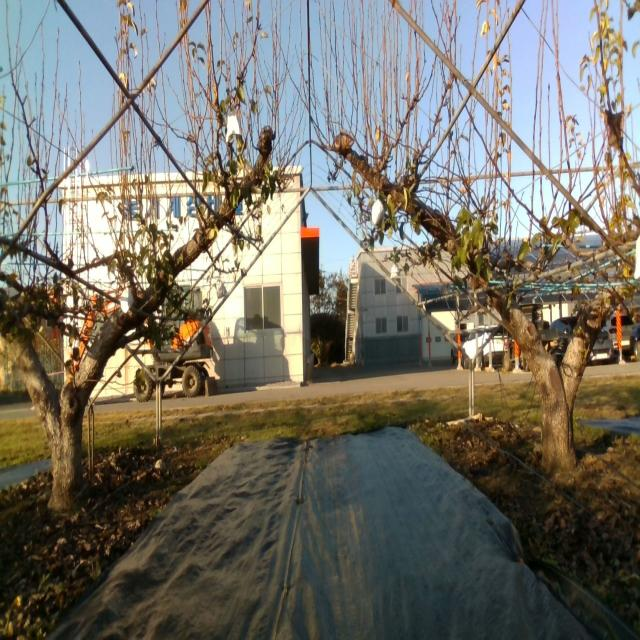pearbags: (226, 109, 241, 144), (121, 282, 133, 316), (371, 199, 385, 224), (216, 278, 228, 298)
